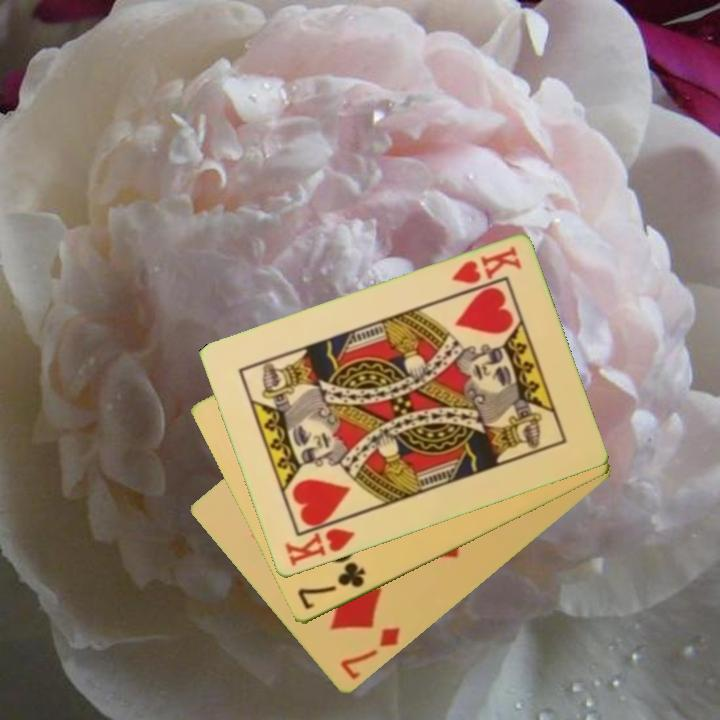7c: (293, 559, 369, 614)
7d: (336, 624, 404, 684)
Kh: (281, 514, 357, 570), (447, 243, 525, 288)
